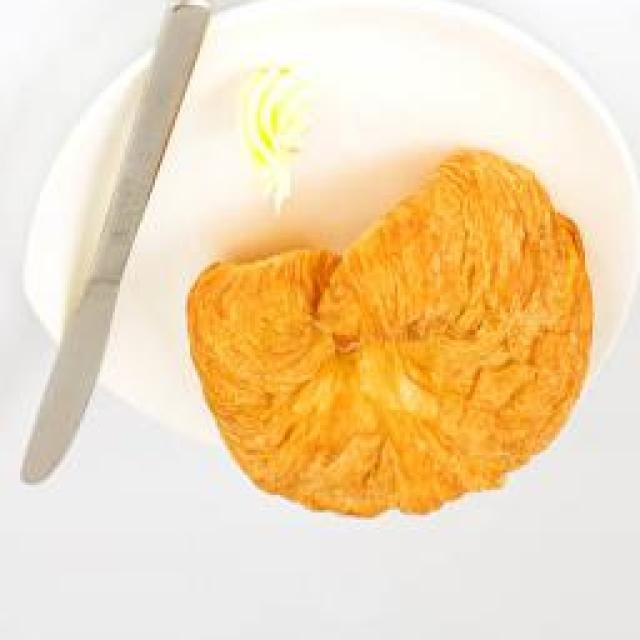knife: (20, 0, 218, 485)
